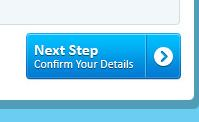button: (27, 32, 183, 80)
